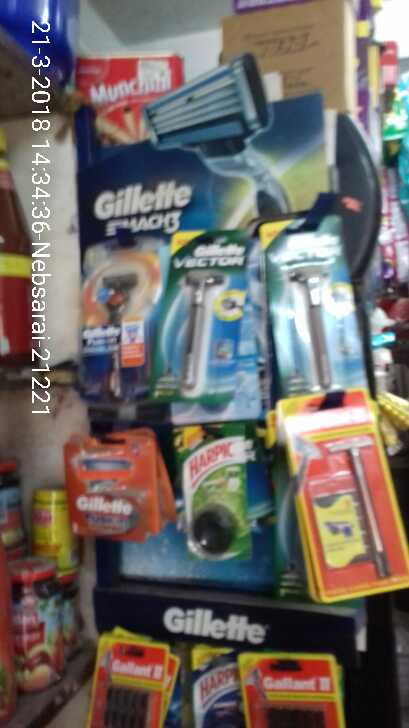gillette: (162, 222, 260, 402), (278, 234, 366, 387), (76, 244, 148, 394), (64, 440, 166, 544)
